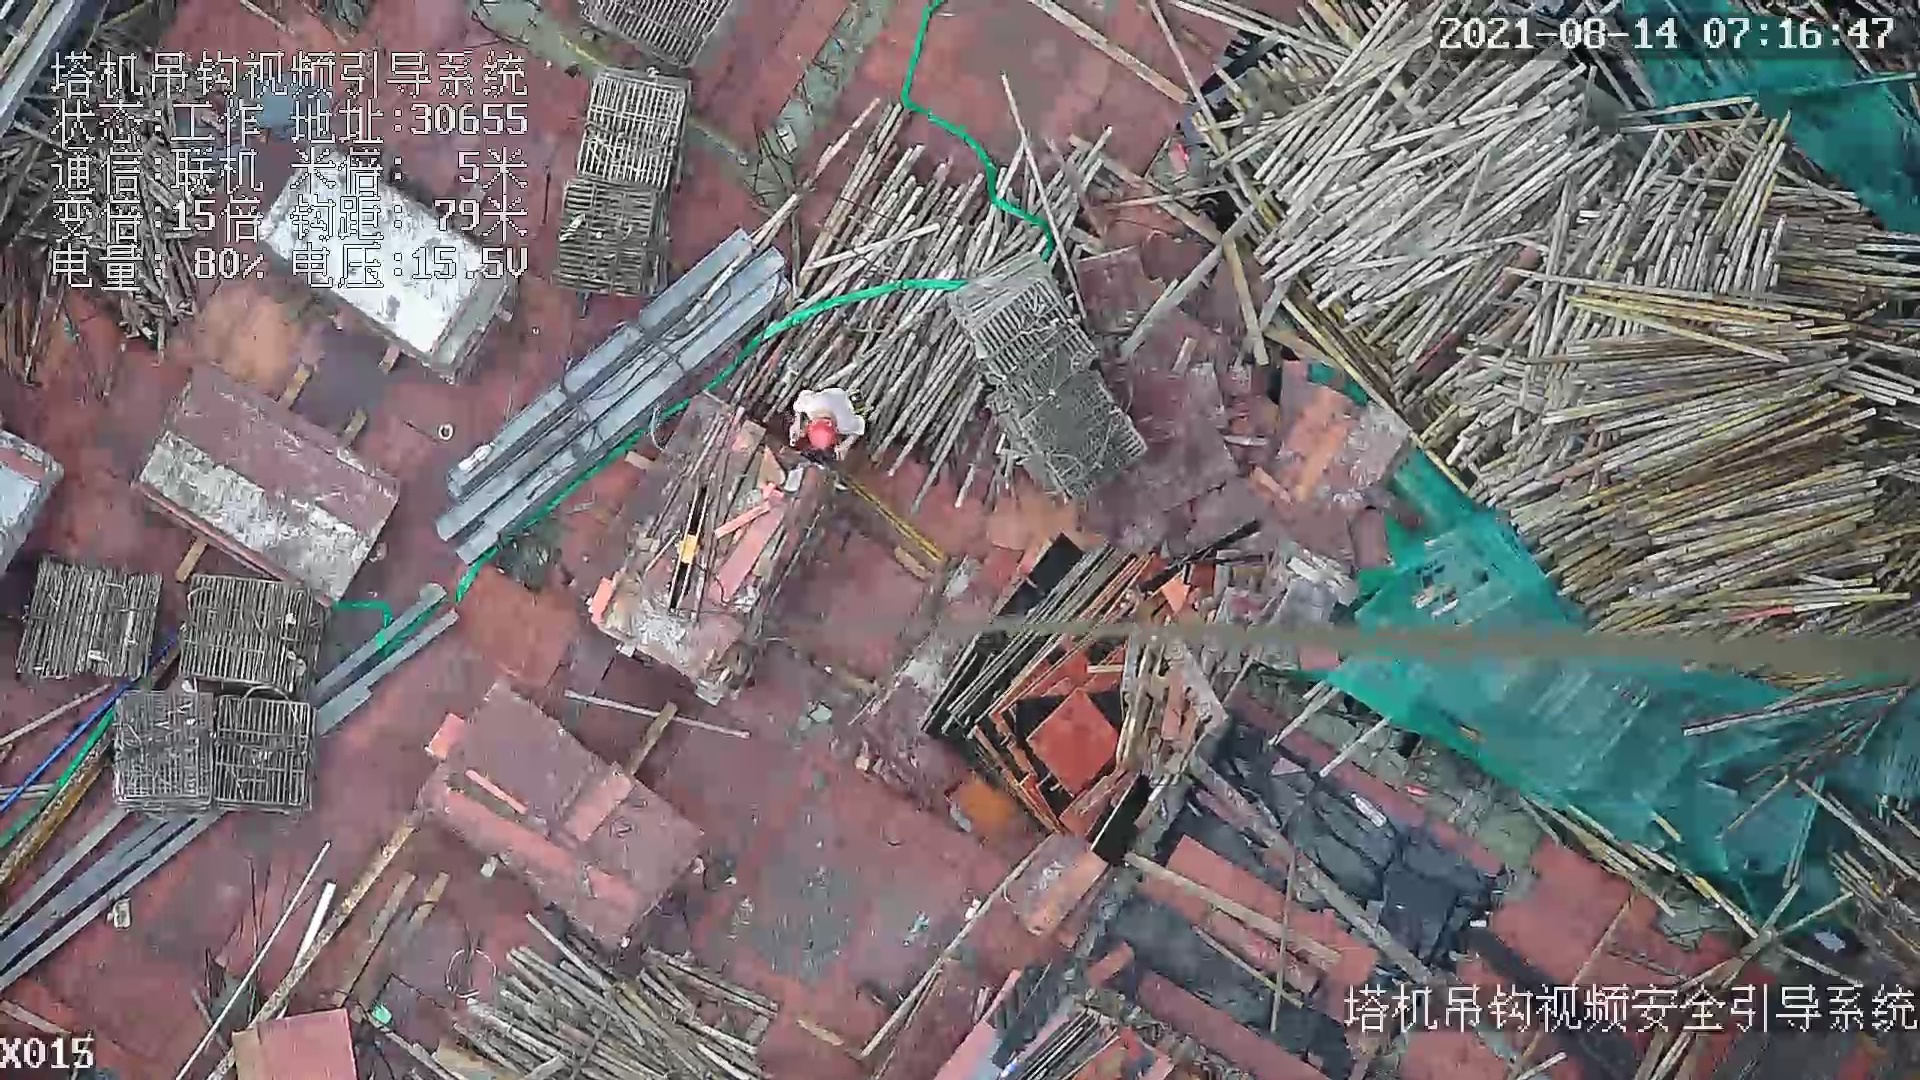helmet: (807, 415, 845, 457)
hook: (668, 482, 703, 622)
person: (779, 381, 878, 462)
